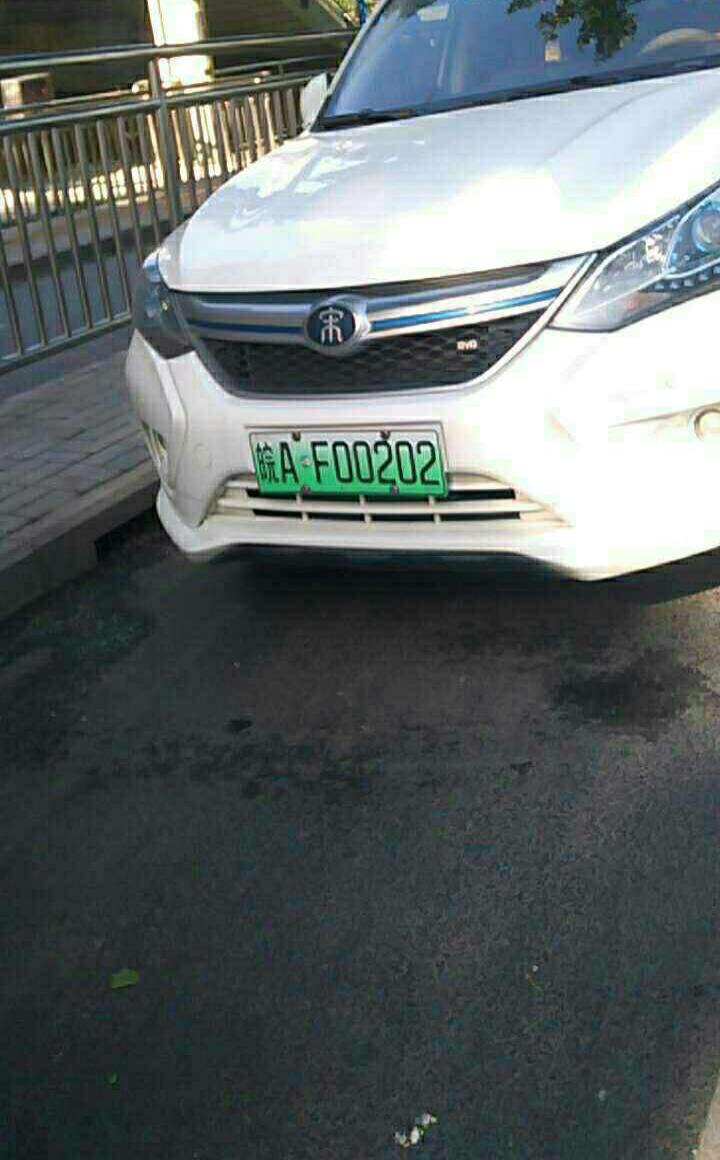car: (244, 429, 451, 501)
